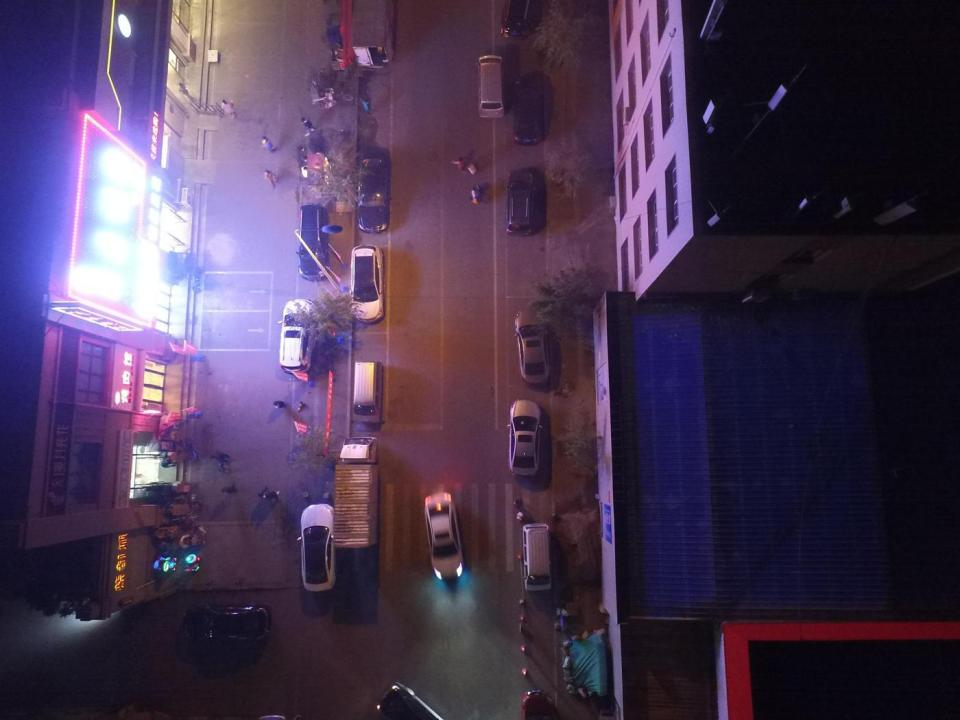car: (296, 503, 336, 592), (424, 492, 464, 580), (183, 603, 270, 640), (356, 153, 393, 234), (278, 299, 317, 374), (350, 245, 385, 322), (514, 308, 549, 384), (508, 399, 542, 477), (376, 681, 443, 719), (512, 78, 543, 146), (521, 690, 558, 720)
truck: (334, 433, 378, 548), (351, 1, 394, 70)
van: (296, 205, 330, 281), (504, 171, 535, 237), (522, 524, 552, 591), (476, 55, 505, 117), (500, 0, 532, 40)
